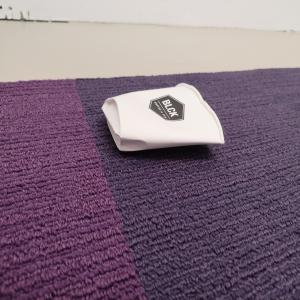Cup: (102, 84, 226, 153)
